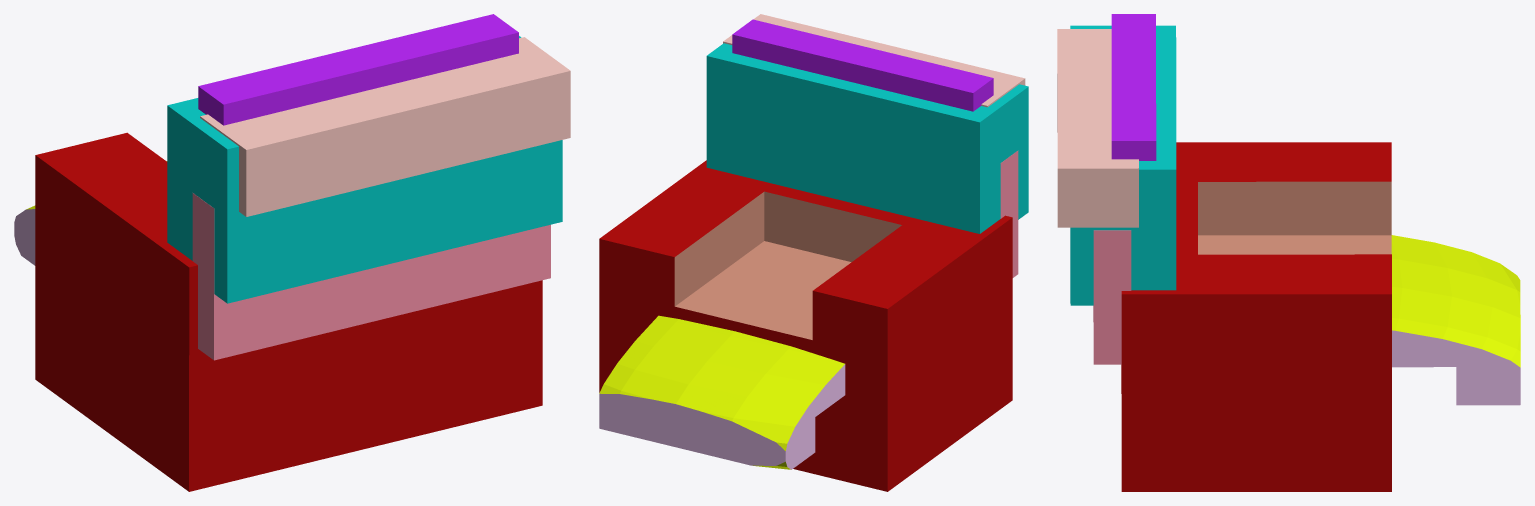
Rendered from 03001627_chair_16.glb.
The picture shows the model from 3 angles, left to right: view 1: azimuth 30°, elevation 25°; view 2: azimuth 150°, elevation 25°; view 3: azimuth 270°, elevation 25°; orthographic projection. The views are drawn at different scales.
Parts seen in each view (by area): view 1: Plane; view 2: Plane; view 3: Plane.
Part boxes in pixels (left/top/right/bottom): Plane: left=14, top=14, right=570, bottom=491; Plane: left=599, top=14, right=1028, bottom=491; Plane: left=1057, top=14, right=1520, bottom=491.
Bounding box in the file's own units: 1.05 × 1.09 × 1.35.
